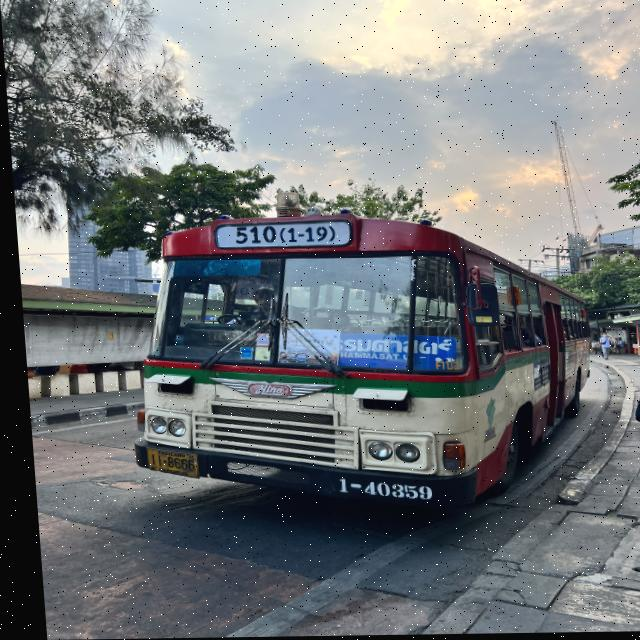BMTA-bus: (112, 212, 596, 515)
Bus-Line-Number: (210, 222, 347, 252)
Destination-Sign-Normal: (315, 331, 457, 376)
